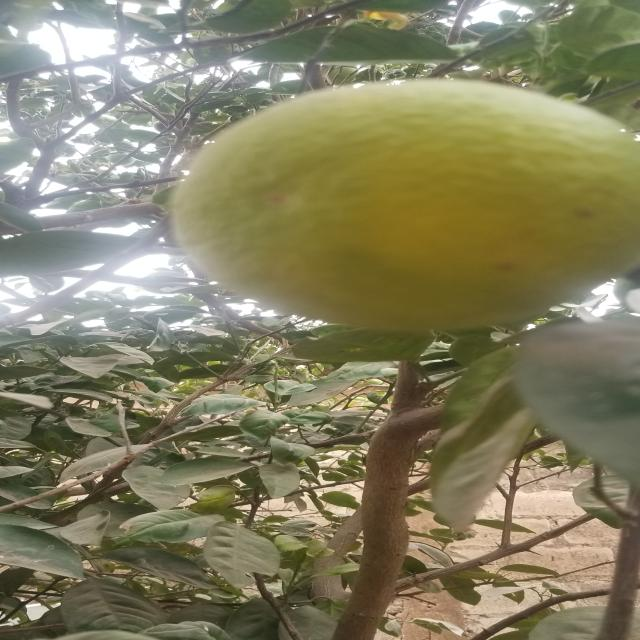Unripe: (147, 73, 640, 346)
